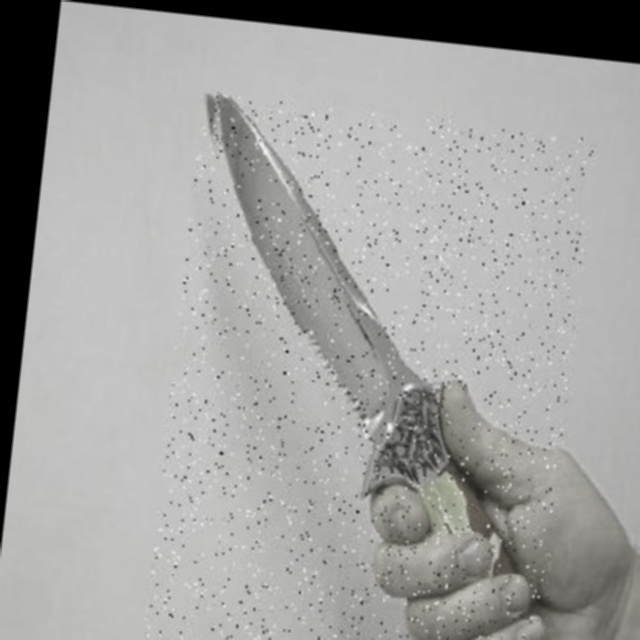Sharp-Object: (141, 93, 596, 640)
